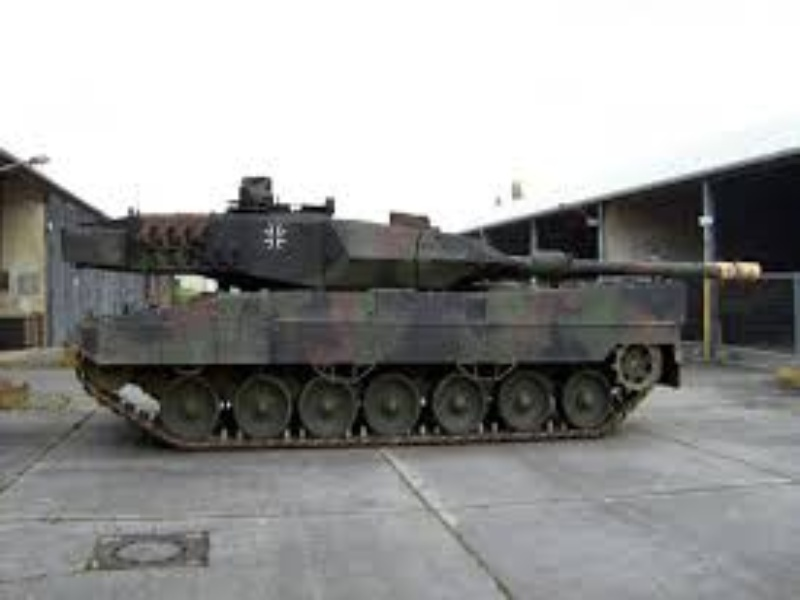tank: (63, 178, 763, 454)
